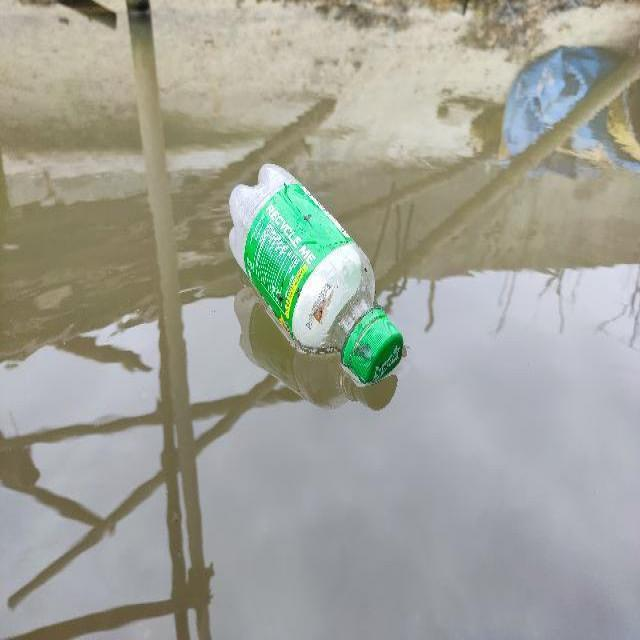Bottle: (212, 157, 411, 392)
